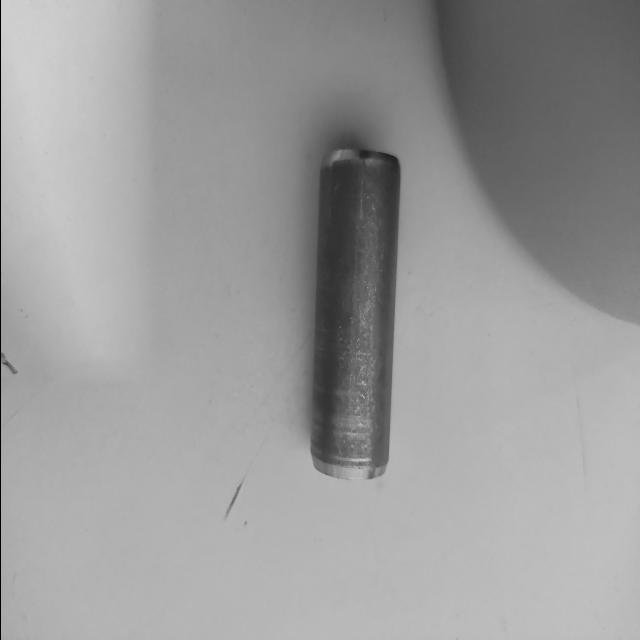Broken: (309, 150, 402, 480)
